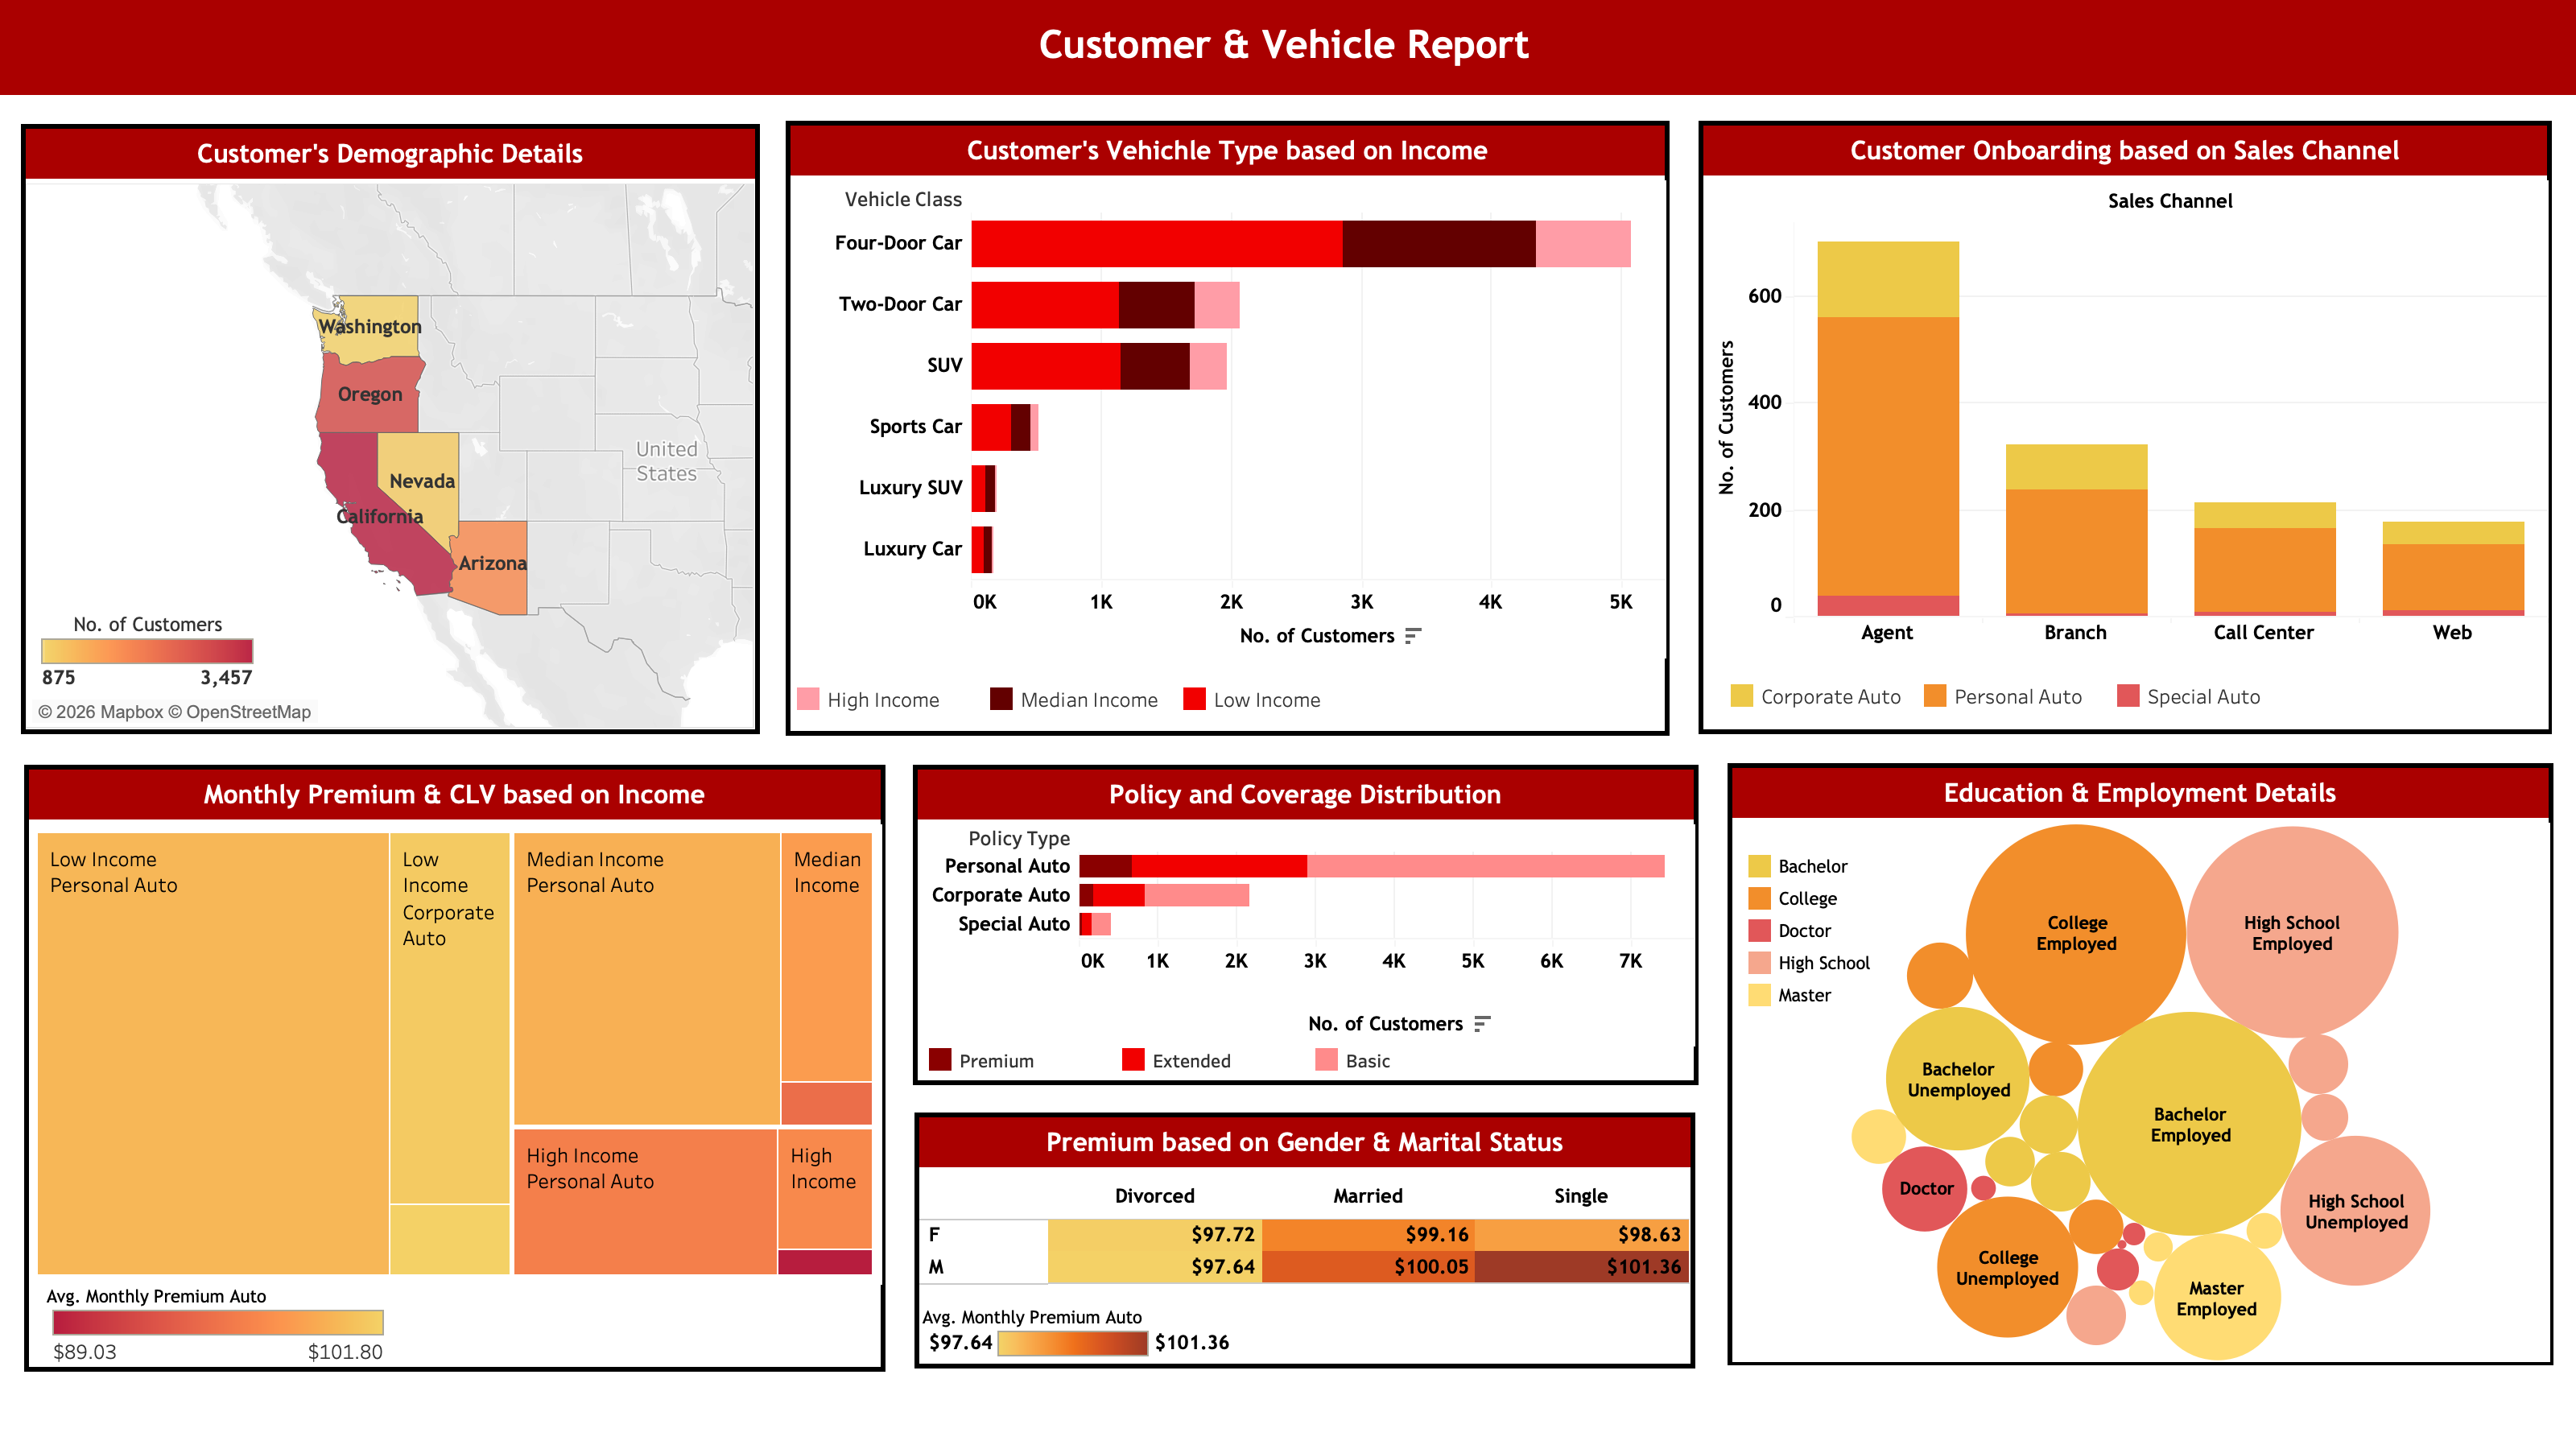

This screenshot's page, from the dashboard's own definition file:
{"tool":"tableau","page":{"name":"Customer Dashboard","canvas":[1600,900],"ordinal":1},"visuals":[{"type":"worksheet","title":"Income vs Vehichle Type","mark":"Bar","rows":["Vehicle Class"],"cols":["Customer"],"box":[488,75,549,382]},{"type":"worksheet","title":"Customer Onboarding Details","mark":"Automatic","rows":["Customer"],"cols":["Sales Channel"],"box":[1055,75,530,381]},{"type":"worksheet","title":"Statewise Comparison","mark":"Automatic","box":[13,77,459,379]},{"type":"legend","title":"Statewise Comparison","param":"[federated.0ag3jjn0y3dh3e12onjd30uvajaq].[cnt:Customer:qk]","box":[22,377,140,53]},{"type":"legend","title":"Customer Onboarding Details","param":"[federated.0ag3jjn0y3dh3e12onjd30uvajaq].[none:Policy Type:nk]","box":[1072,422,488,21]},{"type":"legend","title":"Income vs Vehichle Type","param":"[federated.0ag3jjn0y3dh3e12onjd30uvajaq].[none:Calculation_1653947026855493633:n","box":[492,424,544,30]},{"type":"worksheet","title":"Employment Details","mark":"Circle","box":[1073,474,513,374]},{"type":"worksheet","title":"Customer Segmentation","mark":"Automatic","box":[15,475,535,377]},{"type":"worksheet","title":"Policy and Coverage Distribution","mark":"Automatic","rows":["Policy Type"],"cols":["Customer"],"box":[567,475,488,199]},{"type":"legend","title":"Employment Details","param":"[federated.0ag3jjn0y3dh3e12onjd30uvajaq].[none:Education:nk]","box":[1083,528,104,105]},{"type":"legend","title":"Policy and Coverage Distribution","param":"[federated.0ag3jjn0y3dh3e12onjd30uvajaq].[none:Coverage:nk]","box":[574,648,476,17]},{"type":"worksheet","title":"Gender and Marital Status Details","mark":"Square","rows":["Gender"],"cols":["Marital Status"],"box":[568,691,485,159]},{"type":"legend","title":"Customer Segmentation","param":"[federated.0ag3jjn0y3dh3e12onjd30uvajaq].[avg:Monthly Premium Auto:qk]","box":[29,795,214,51]},{"type":"legend","title":"Gender and Marital Status Details","param":"[federated.0ag3jjn0y3dh3e12onjd30uvajaq].[avg:Monthly Premium Auto:qk]","box":[573,808,196,40]}]}

Visuals, with their boxes in screenshot pixels (x1, y1, x2, y2), scaled from the page's 1600x900 canvas onto the 2576x1449 screenshot:
"Income vs Vehichle Type" worksheet (Bar marks): <bbox>786, 121, 1670, 736</bbox>
"Customer Onboarding Details" worksheet: <bbox>1699, 121, 2552, 734</bbox>
"Statewise Comparison" worksheet: <bbox>21, 124, 760, 734</bbox>
"Statewise Comparison" legend: <bbox>35, 607, 261, 692</bbox>
"Customer Onboarding Details" legend: <bbox>1726, 679, 2512, 713</bbox>
"Income vs Vehichle Type" legend: <bbox>792, 683, 1668, 731</bbox>
"Employment Details" worksheet (Circle marks): <bbox>1728, 763, 2553, 1365</bbox>
"Customer Segmentation" worksheet: <bbox>24, 765, 885, 1372</bbox>
"Policy and Coverage Distribution" worksheet: <bbox>913, 765, 1699, 1085</bbox>
"Employment Details" legend: <bbox>1744, 850, 1911, 1019</bbox>
"Policy and Coverage Distribution" legend: <bbox>924, 1043, 1690, 1071</bbox>
"Gender and Marital Status Details" worksheet (Square marks): <bbox>914, 1113, 1695, 1368</bbox>
"Customer Segmentation" legend: <bbox>47, 1280, 391, 1362</bbox>
"Gender and Marital Status Details" legend: <bbox>923, 1301, 1238, 1365</bbox>
